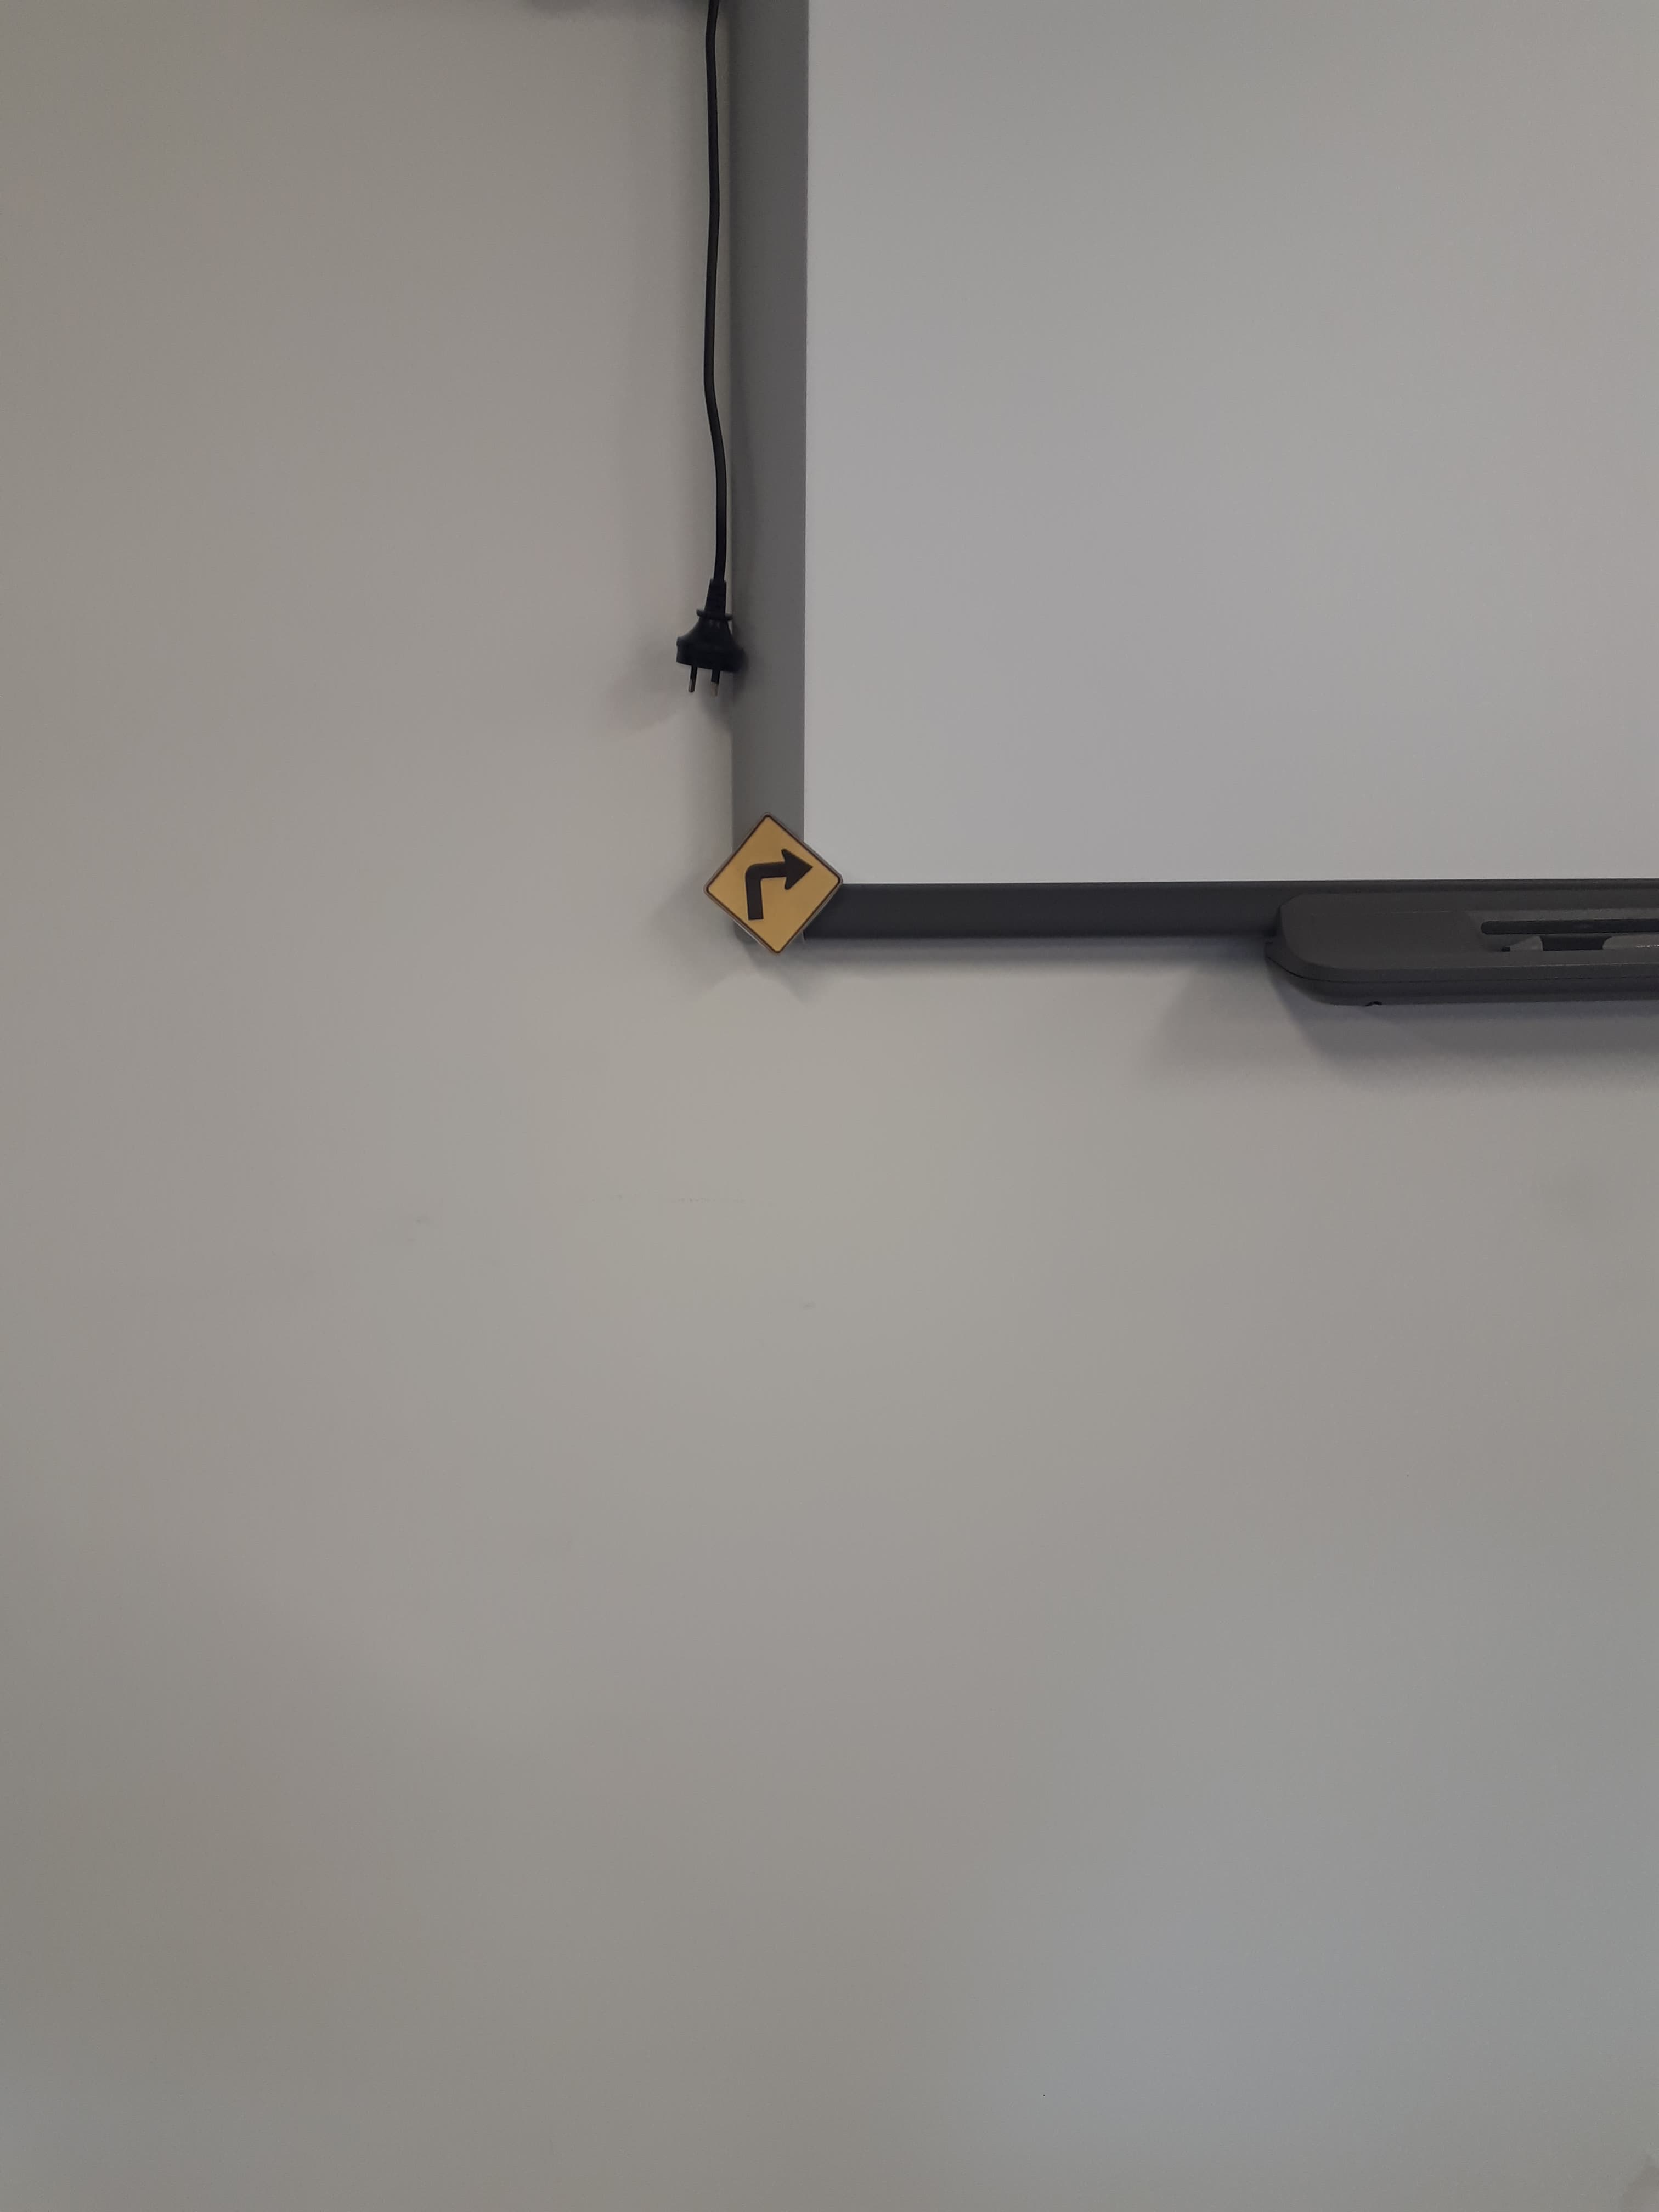right: (626, 779, 943, 1028), (739, 813, 875, 927)
